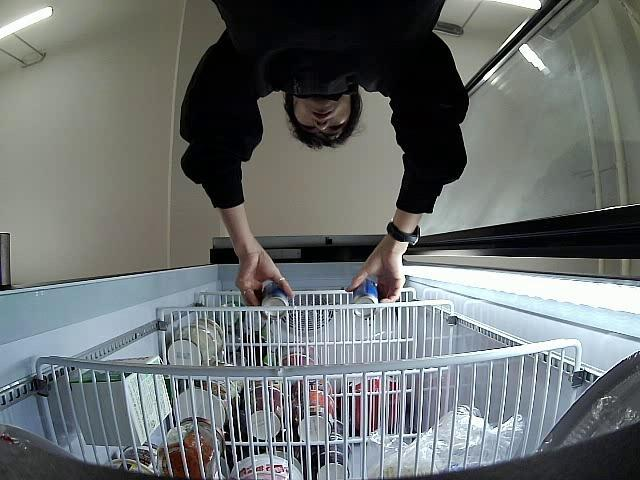15_letsbe: (352, 276, 379, 320), (261, 281, 290, 320)
